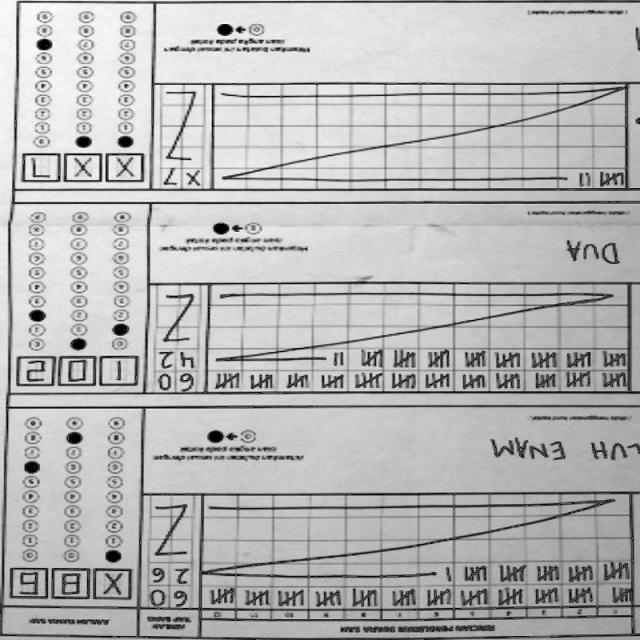Suara: (7, 564, 135, 606), (19, 148, 147, 190), (16, 352, 144, 393)
